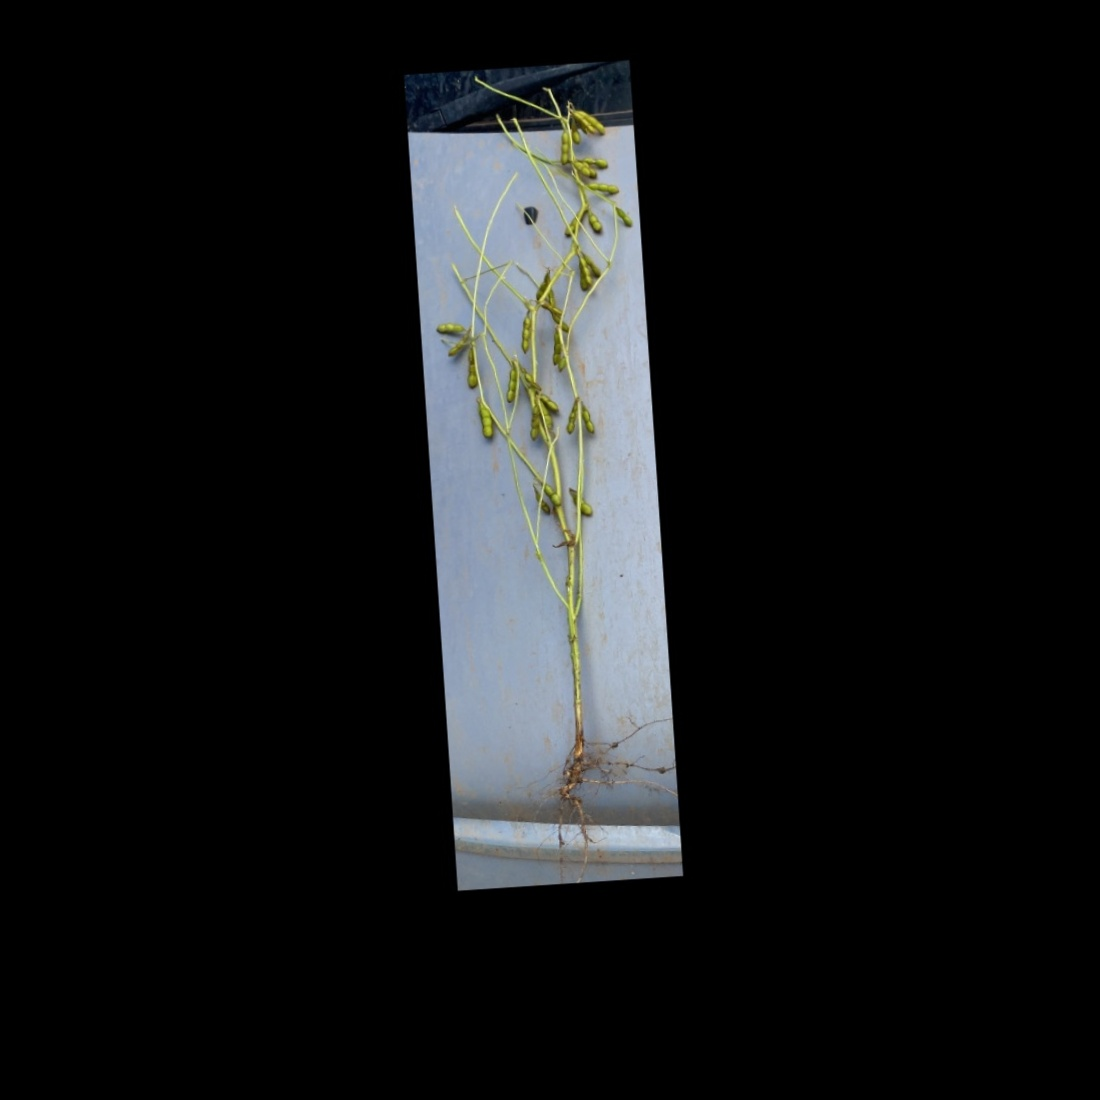pod: (473, 394, 495, 441), (568, 484, 595, 519), (515, 310, 535, 356), (525, 403, 543, 444), (462, 348, 479, 391), (444, 330, 470, 359), (434, 314, 467, 336), (583, 179, 621, 198), (502, 366, 519, 406), (546, 329, 563, 369), (578, 403, 598, 436), (555, 130, 571, 167), (542, 482, 564, 507), (563, 402, 578, 438), (585, 207, 605, 234), (613, 202, 632, 230), (568, 116, 583, 147)
soy: (416, 80, 670, 820)
